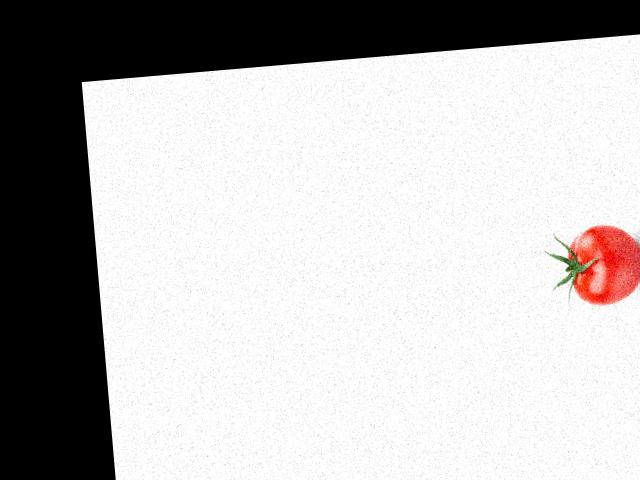tomato: (565, 221, 640, 307)
